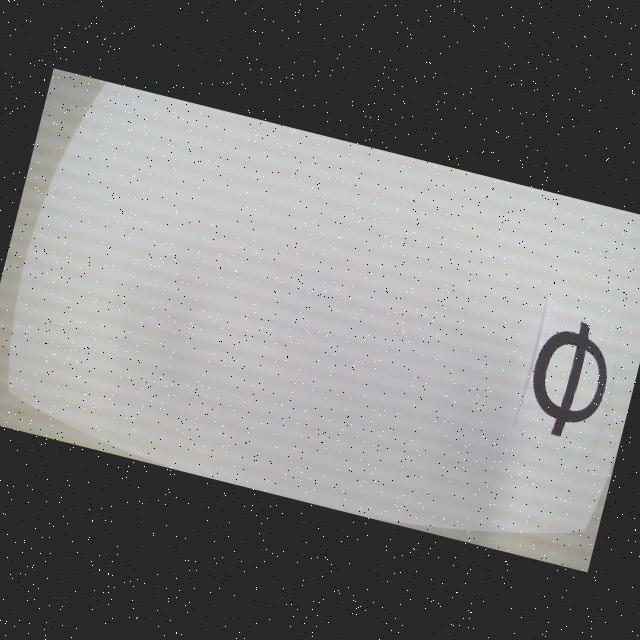PHI: (520, 312, 619, 444)
